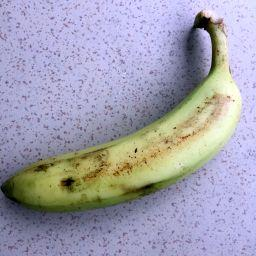Banana Ripe: (0, 15, 256, 217)
